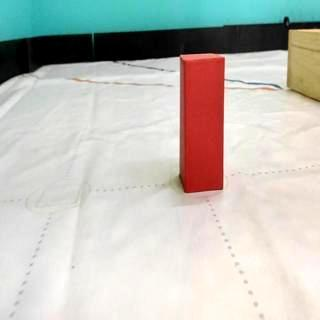redbox: (178, 53, 225, 195)
